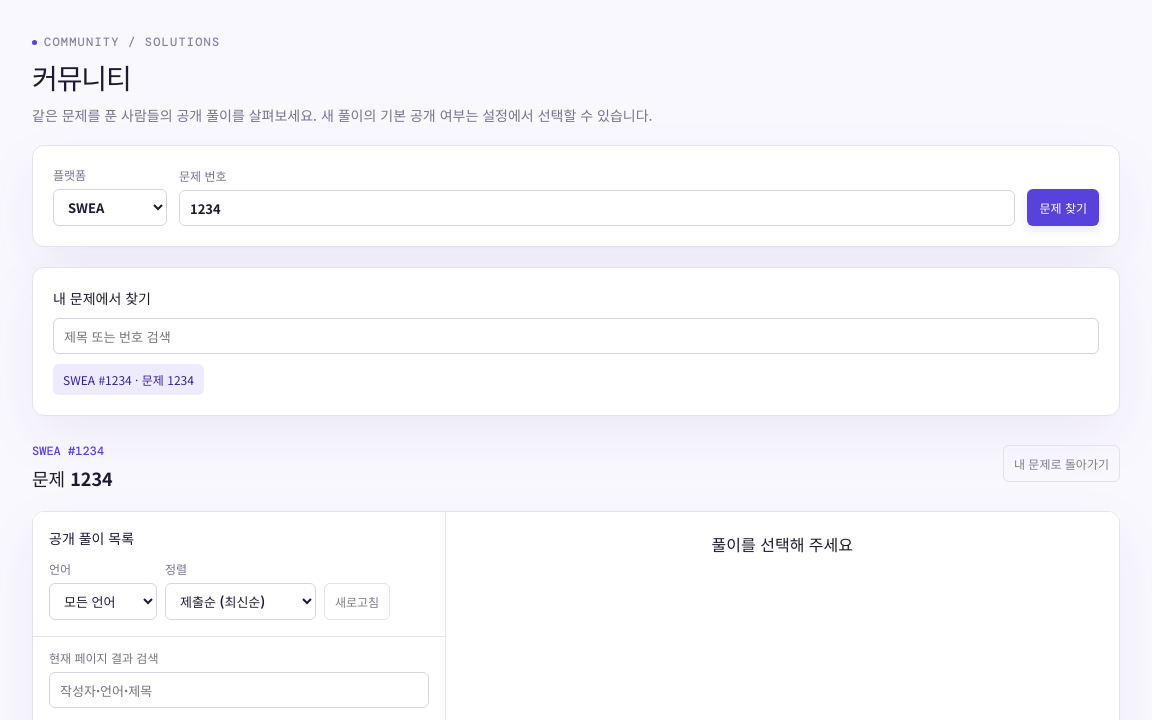
Test: distinguishes an empty result from a server error and offers refresh
Click the button "새로고침".
click(357, 602)  # box [324, 583, 390, 620]
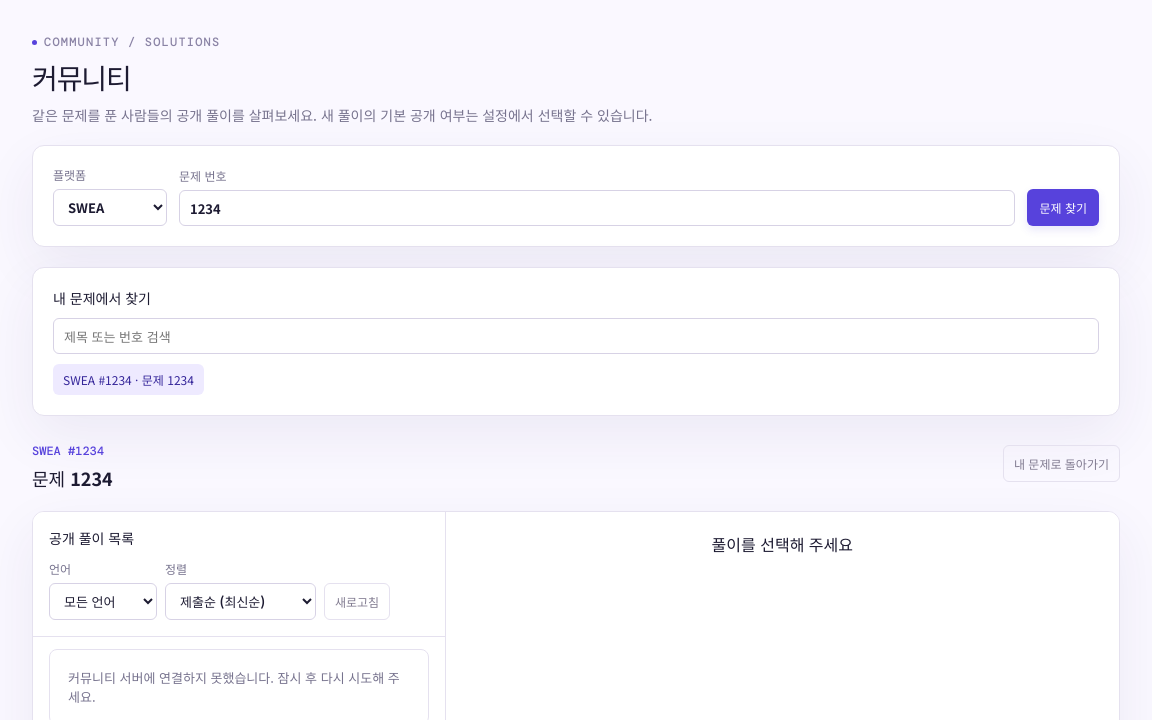
Now the message reads "커뮤니티 서버에 연결하지 못했습니다. 잠시 후 다시 시도해 주세요.", box [68, 668, 400, 706]
Click the button "새로고침".
click(357, 602)  # box [324, 583, 390, 620]
(page scrolled)
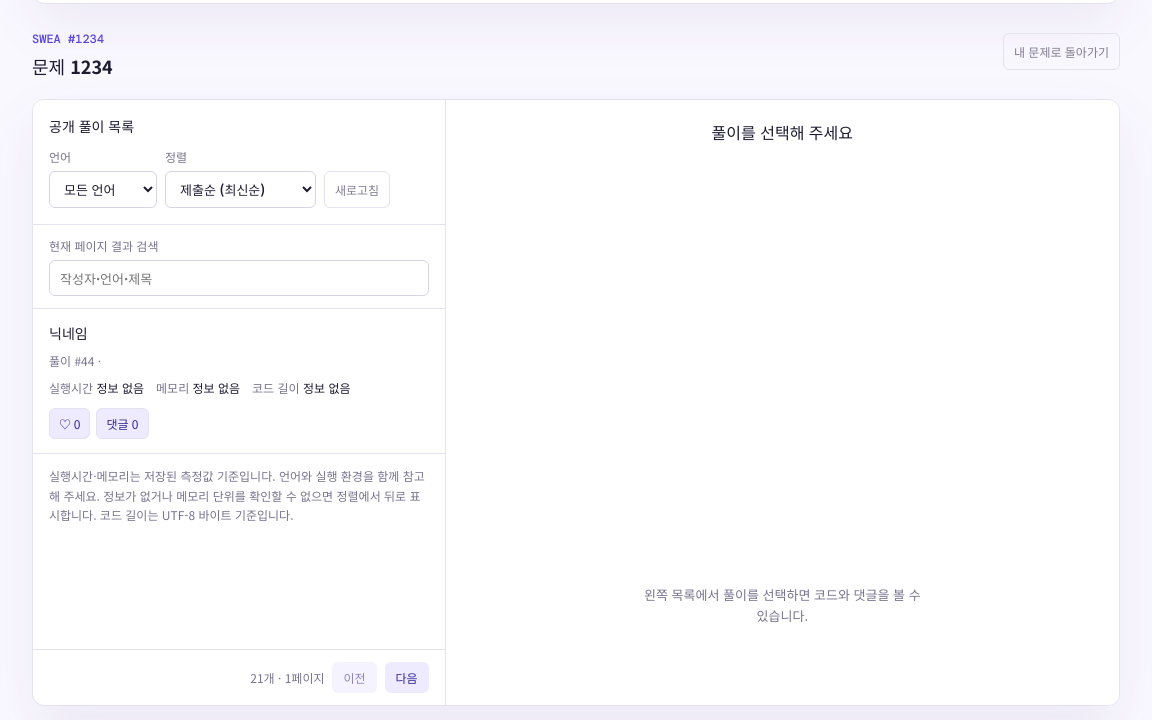
Now the button "닉네임 풀이 #44 · 실행시간 정보 없음 메모리 정보 없음 코드 길이 정보 없음" is shown, box [49, 323, 429, 398]
